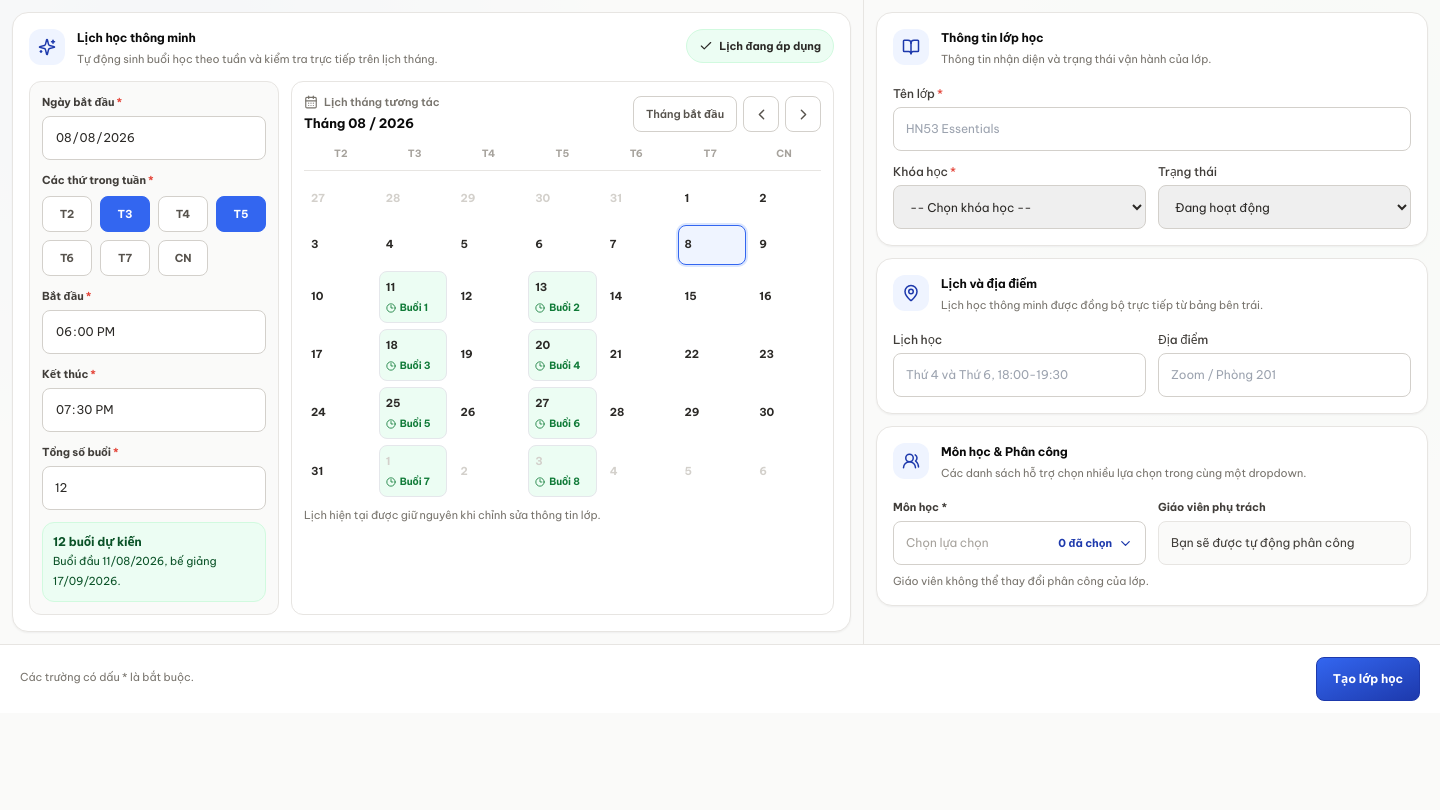
ClassForm › blocks an empty class form with validation messages
Click the button "Tạo lớp học".
click(1368, 679)  # box x1=1316 y1=657 x2=1420 y2=701
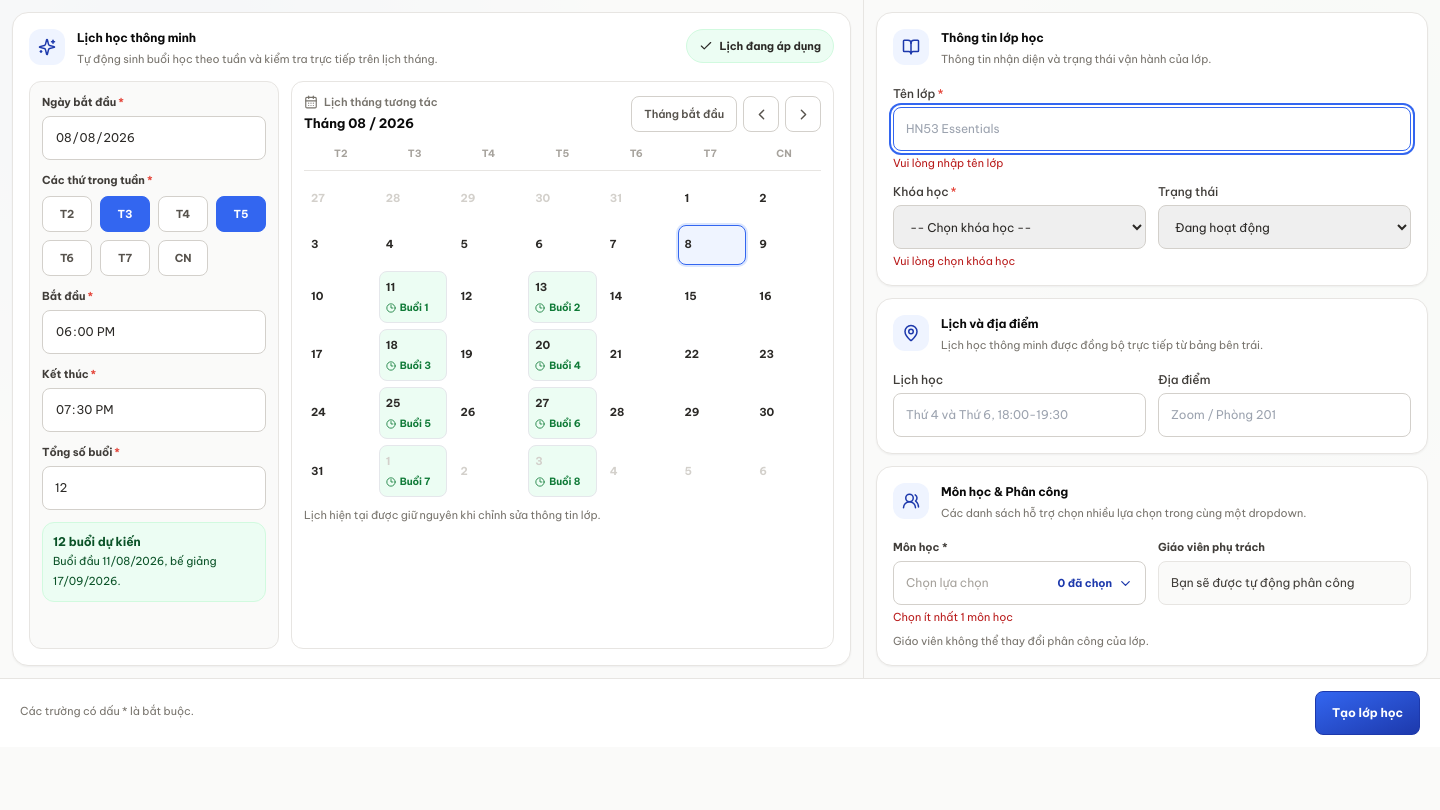
Result: the number of messages is 3 at x1=893 y1=156 x2=1003 y2=170; x1=893 y1=254 x2=1015 y2=268; x1=893 y1=610 x2=1013 y2=624
